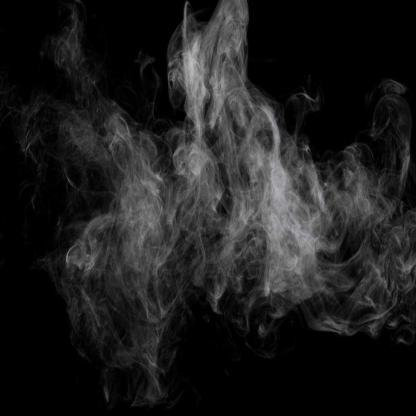smoke: (183, 123, 412, 333), (59, 138, 188, 374), (170, 0, 262, 130)
